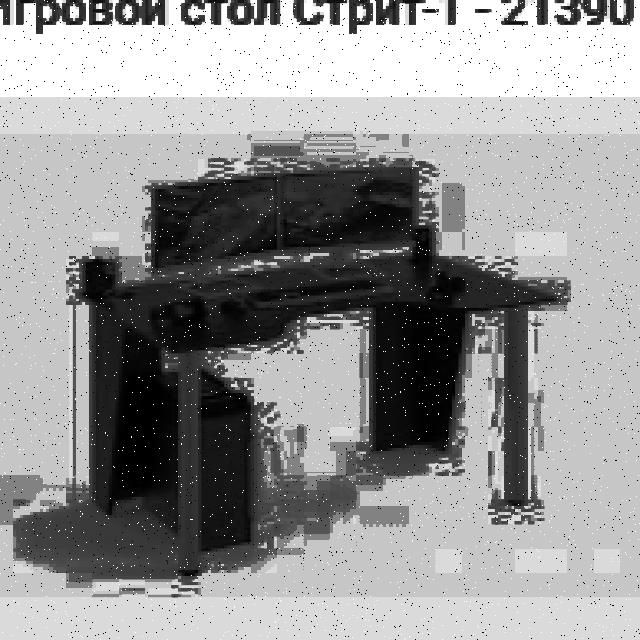table: (76, 250, 557, 573)
